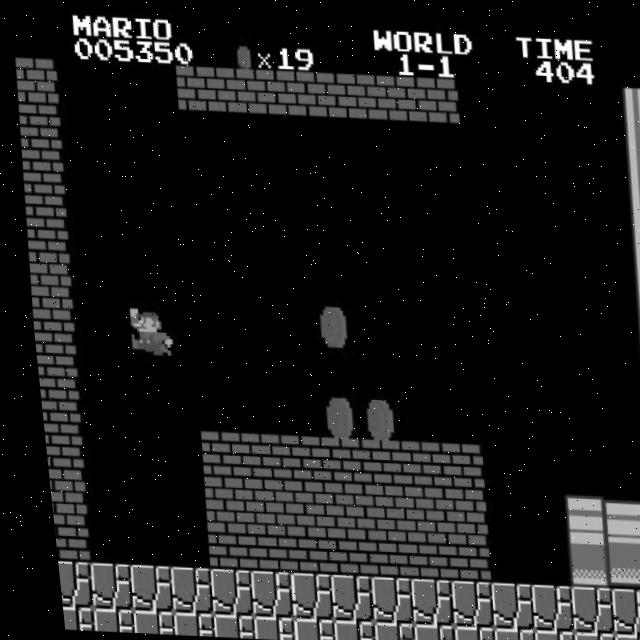1- brick_block: (172, 65, 219, 113), (191, 476, 238, 524), (231, 478, 278, 526), (271, 480, 318, 528), (313, 527, 360, 575), (353, 529, 400, 577), (372, 74, 419, 122), (412, 76, 459, 124), (193, 522, 240, 569), (212, 67, 259, 114), (233, 524, 280, 571), (252, 69, 299, 116), (273, 526, 320, 573), (292, 71, 339, 118), (309, 436, 356, 483), (311, 482, 358, 529), (332, 73, 379, 120), (349, 438, 396, 485), (351, 484, 398, 531), (389, 440, 436, 487), (391, 486, 438, 533), (429, 442, 476, 489), (431, 488, 478, 535), (18, 194, 64, 242), (394, 531, 440, 579), (434, 533, 480, 581), (14, 103, 60, 150), (16, 149, 62, 196), (189, 431, 236, 477), (229, 433, 276, 479), (269, 435, 316, 481), (12, 57, 57, 105), (21, 240, 66, 288), (23, 286, 68, 332), (27, 331, 70, 378), (31, 377, 73, 424), (35, 423, 74, 469), (38, 469, 77, 515), (42, 514, 79, 561)
11- little_mario: (118, 305, 167, 355)
14- pipe: (592, 495, 639, 542), (594, 540, 640, 588), (612, 85, 640, 132), (614, 131, 640, 177), (616, 177, 640, 223), (619, 222, 640, 269), (620, 268, 640, 315), (623, 314, 640, 360), (625, 359, 640, 406), (627, 405, 640, 452), (629, 451, 640, 497), (631, 497, 640, 543), (634, 542, 640, 589)
15- pipe_head: (554, 538, 601, 586), (552, 493, 599, 540)
17- undestructible_block: (75, 562, 122, 610), (275, 571, 322, 619), (396, 577, 443, 625), (436, 579, 483, 627), (476, 580, 523, 628), (516, 582, 563, 630), (556, 584, 603, 632), (115, 564, 162, 611), (155, 566, 202, 613), (195, 568, 242, 615), (235, 570, 282, 617), (316, 573, 362, 621), (356, 575, 402, 623), (596, 586, 640, 634), (46, 560, 81, 607), (78, 607, 122, 632), (118, 609, 162, 634), (158, 611, 202, 636), (198, 613, 242, 638), (239, 615, 282, 640), (279, 617, 323, 640), (318, 619, 362, 640), (358, 621, 402, 640), (398, 622, 442, 640), (49, 606, 81, 629), (439, 625, 482, 640), (479, 626, 522, 640), (519, 627, 562, 640), (559, 630, 602, 640), (599, 631, 640, 640), (636, 588, 640, 635), (638, 634, 640, 640)
2- coin: (307, 390, 354, 438), (347, 392, 394, 440), (303, 299, 349, 347)
